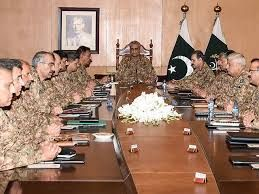uniform: (10, 86, 55, 158), (1, 107, 33, 190), (30, 69, 60, 122), (122, 48, 159, 87), (237, 76, 259, 130), (180, 61, 215, 93), (50, 74, 82, 106), (221, 69, 246, 105), (73, 60, 96, 87)
